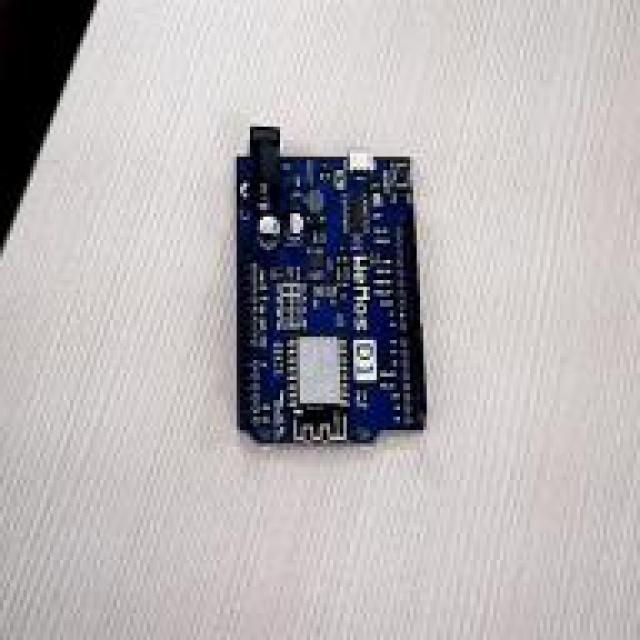Wemos: (238, 128, 424, 441)
